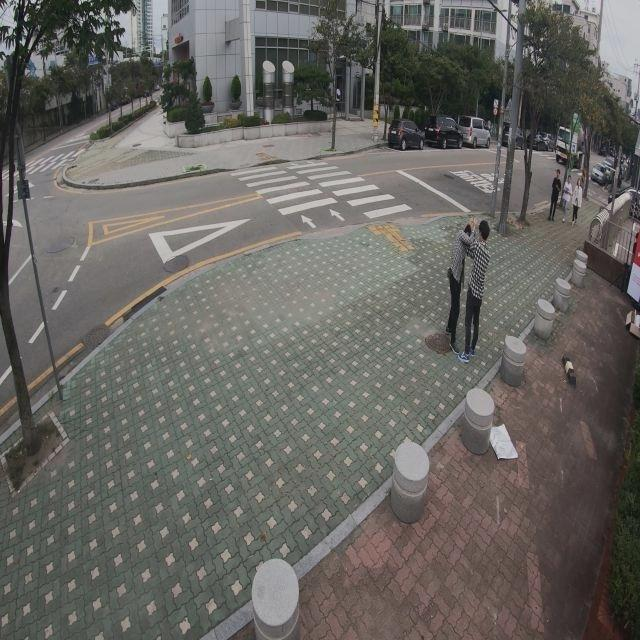fight: (444, 220, 492, 361)
